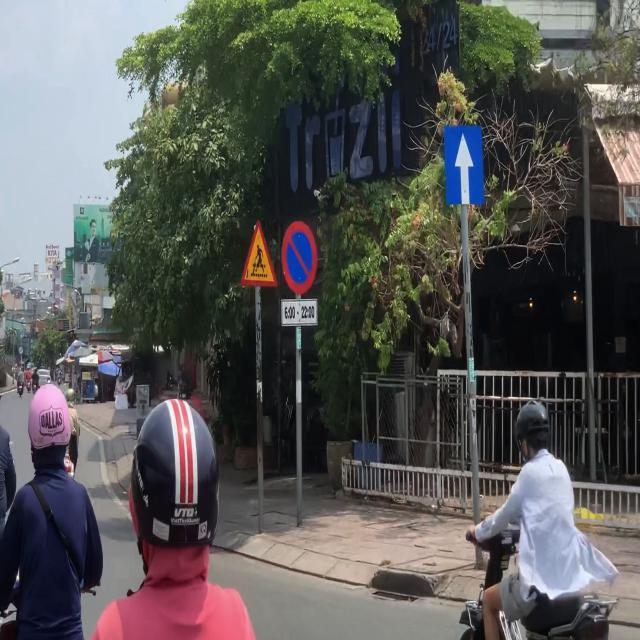Cam do: (281, 220, 318, 295)
Chi dan: (443, 125, 485, 205)
Nguoi di bo cat ngang: (240, 219, 278, 288)
